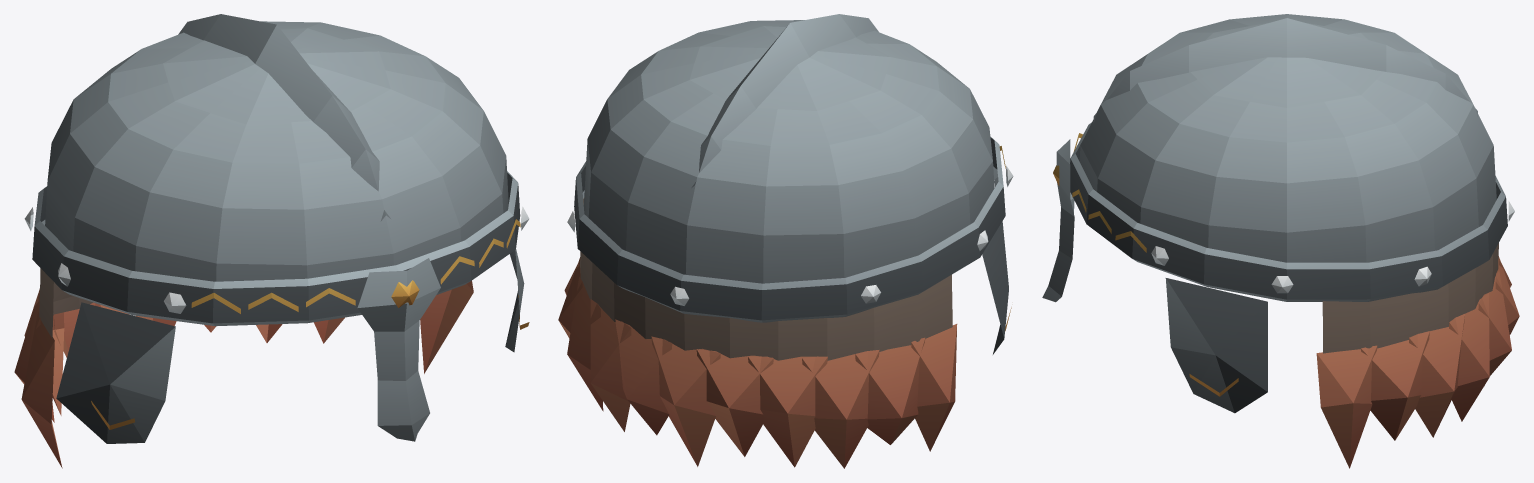
The model's file is casco_enano.glb.
3 views of the same model, side by side, from view 1: azimuth 30°, elevation 25°; view 2: azimuth 150°, elevation 25°; view 3: azimuth 270°, elevation 25° (orthographic). The views are drawn at different scales.
Visible parts, largest first — view 1: casco_enano; view 2: casco_enano; view 3: casco_enano.
Boxes of the visible parts, left/top/right/bottom form: casco_enano: left=14, top=14, right=529, bottom=468; casco_enano: left=558, top=14, right=1013, bottom=468; casco_enano: left=1042, top=14, right=1519, bottom=468.
Size of the model in its own units: 1.07 by 0.932 by 1.08.
Materials: 1 (1 with a texture image).
